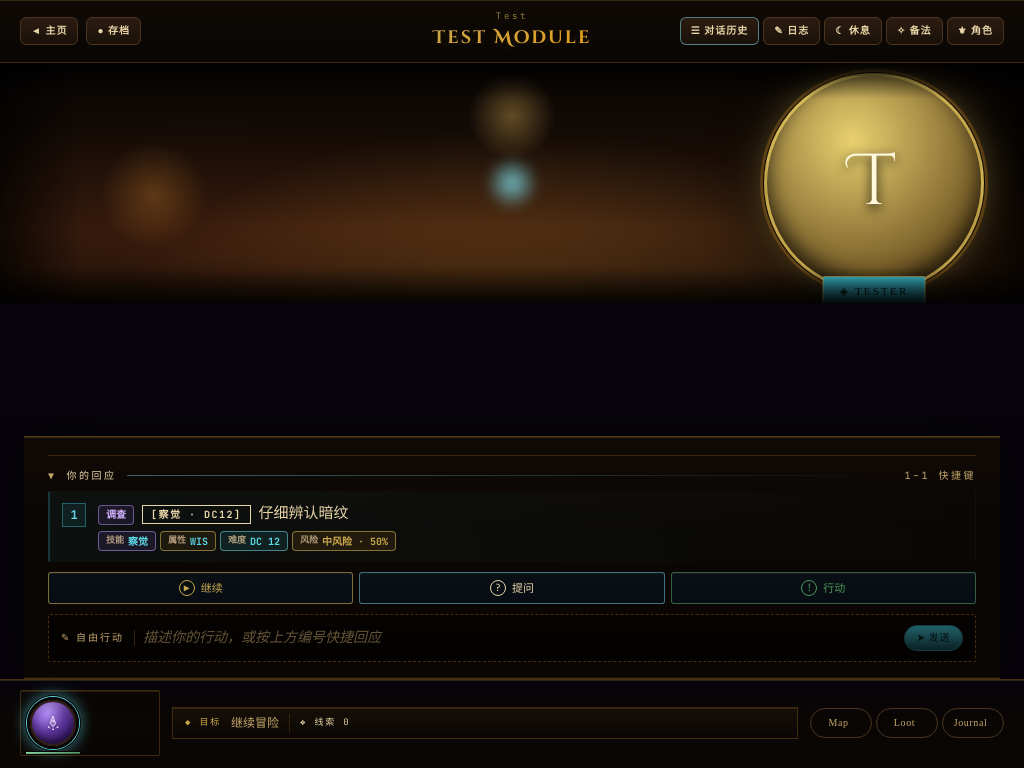
Test: Adventure render smoke › 点击带 skill_check 的选项时进入前端检定流程
Click the button "1 调查 [察觉 · DC12] 仔细辨认暗纹 技能 察觉 属性 WIS 难度 DC 12 风险 中风险 · 50%": [116, 515] box [48, 491, 976, 562]
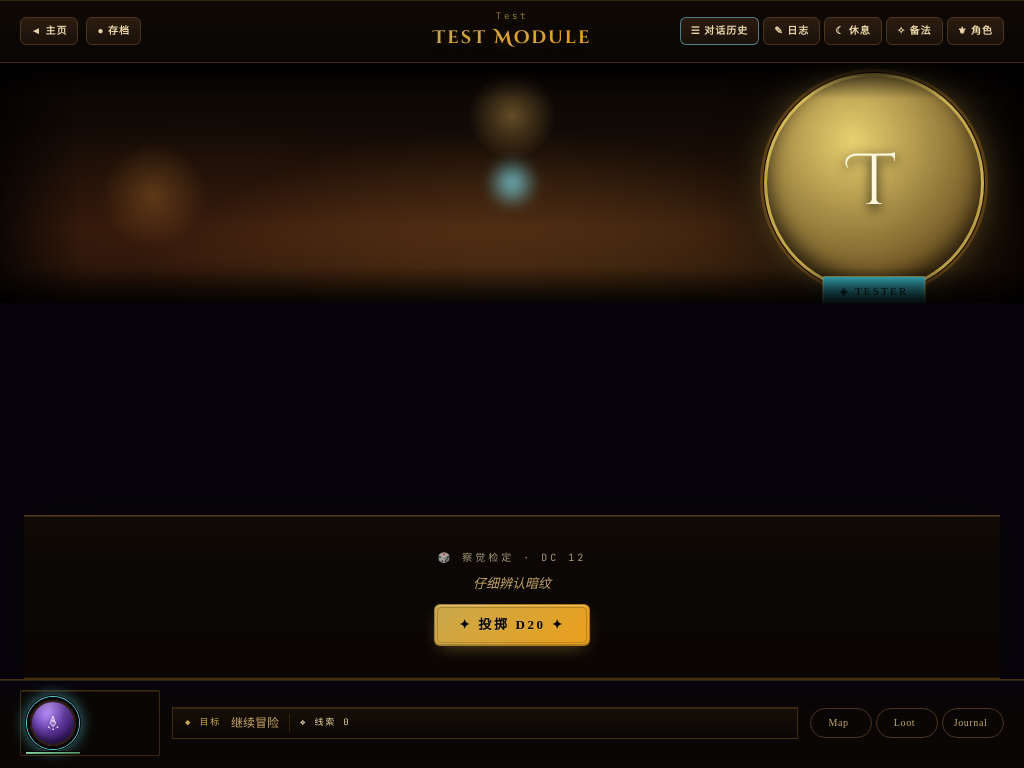
Expected: the text "🎲 察觉检定 · DC 12" is shown, [438, 550, 586, 566]
